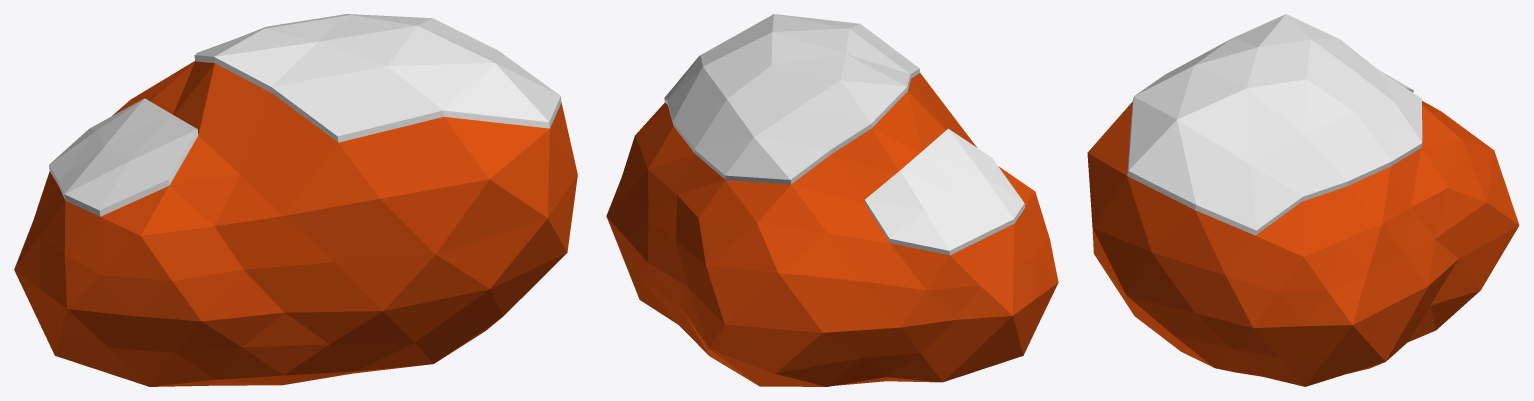
The model's file is Bush2b.fbx.
The picture shows the model from 3 angles, left to right: view 1: azimuth 30°, elevation 25°; view 2: azimuth 150°, elevation 25°; view 3: azimuth 270°, elevation 25°; orthographic projection. The views are drawn at different scales.
Parts seen in each view (by area): view 1: Bush2.001; view 2: Bush2.001; view 3: Bush2.001.
Boxes of the visible parts, box(x1,y1,x2,y2) form: Bush2.001: box(14, 14, 577, 386); Bush2.001: box(606, 14, 1058, 386); Bush2.001: box(1087, 14, 1519, 386).
Bounding box in the file's own units: 853 × 525 × 745.
